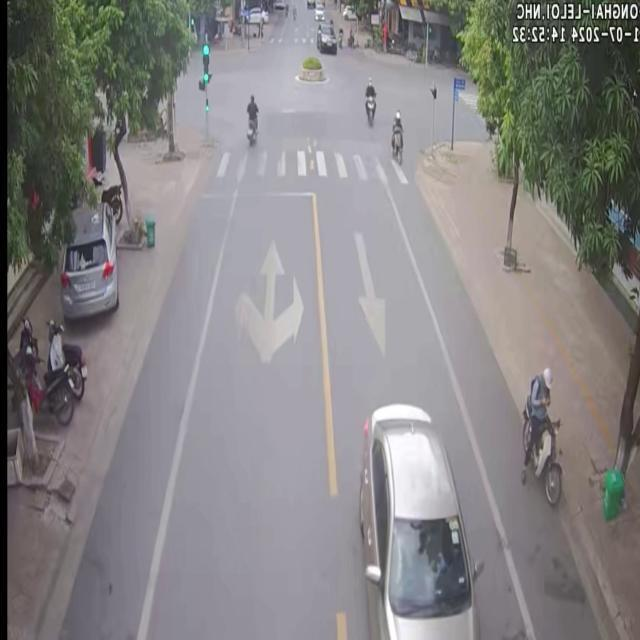car: (358, 402, 482, 638), (58, 194, 117, 318)
green_light: (201, 40, 209, 85)
motobike: (14, 316, 73, 422), (525, 365, 558, 501), (46, 318, 86, 398), (389, 109, 402, 162), (246, 94, 257, 144), (363, 76, 374, 125)
stop_line: (200, 189, 313, 196)
